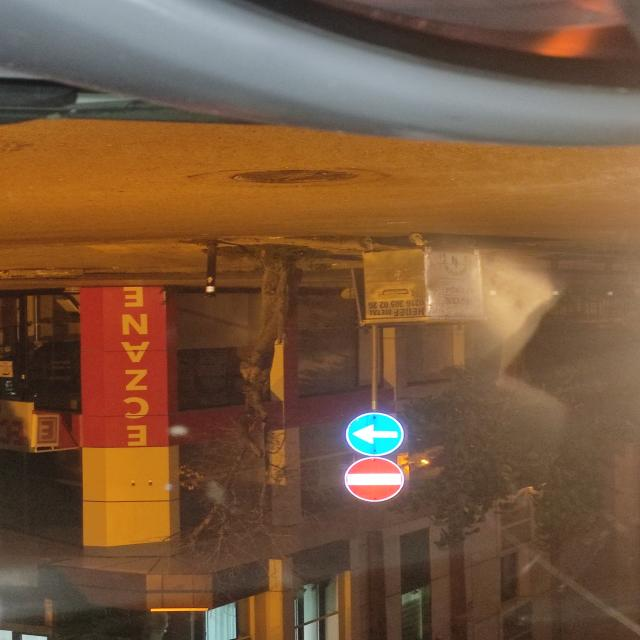No Entry: (344, 461, 413, 506)
